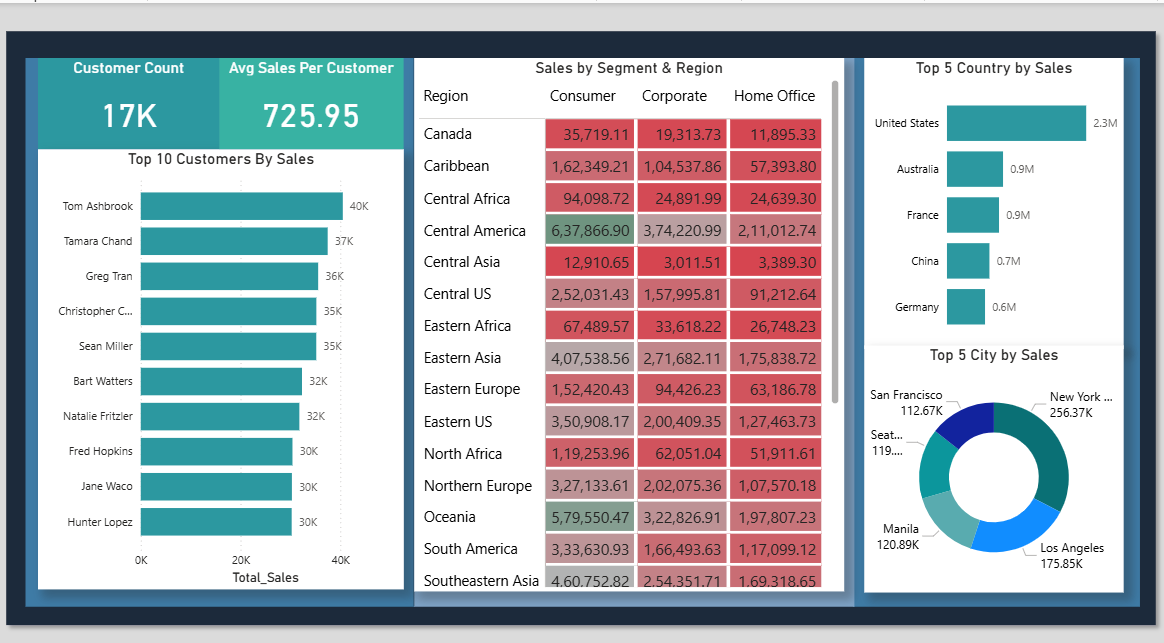

Layout of this report page (visuals, bound fields, positions):
{"tool":"powerbi","page":{"name":"Customer Insights","canvas":[1280,720],"ordinal":2},"visuals":[{"type":"shape","box":[937.9,60.1,315,602.7],"z":0,"group":"g1"},{"type":"shape","box":[456.1,59.9,483.2,602.7],"z":1000,"group":"g1"},{"type":"shape","box":[29.9,59.9,426.2,602.7],"z":2000,"group":"g1"},{"type":"card","title":"Customer Count","fields":{"Values":["Measures (2).Customer Count"]},"box":[44.2,59.9,199.5,99.7],"z":3000,"group":"g1"},{"type":"barChart","title":"Top 10 Customers By Sales","fields":{"Category":["DimCustomer.Customer Name"],"Y":["Measures (2).Total_Sales"]},"box":[44.2,159.6,401.9,483.1],"z":4000,"group":"g1"},{"type":"card","title":"Avg Sales Per Customer","fields":{"Values":["Measures (2).Avg Sales per Customer"]},"box":[242.3,59.9,202.4,99.7],"z":5000,"group":"g1"},{"type":"pivotTable","title":"Sales by  Segment & Region","fields":{"Values":["Measures (2).Total_Sales"],"Rows":["DimGeography.Region"],"Columns":["DimCustomer.Segment"]},"box":[456.1,59.9,471.8,585.7],"z":6000,"group":"g1"},{"type":"barChart","title":"Top 5 Country by Sales","fields":{"Category":["DimGeography.Country"],"Y":["Measures (2).Total_Sales"]},"box":[950.8,60.1,285.1,319.3],"z":7000,"group":"g1"},{"type":"shape","box":[0,21.4,1280,669.9],"z":7501},{"type":"donutChart","title":"Top 5 City by Sales","fields":{"Category":["DimGeography.City"],"Y":["Measures (2).Total_Sales"]},"box":[950.8,375.1,285.1,270.8],"z":8000,"group":"g1"},{"type":"group","id":"g1","title":"Group 1","box":[29.9,59.9,1223,602.9],"z":8001}]}

Visuals, with their boxes in screenshot pixels (x1, y1, x2, y2), scaled from the page's 1280x720 canvas onto the 1164x643 screenshot:
shape: region(853, 54, 1139, 592)
shape: region(415, 53, 854, 592)
shape: region(27, 53, 415, 592)
"Customer Count" card: region(40, 53, 222, 143)
"Top 10 Customers By Sales" barChart: region(40, 143, 406, 574)
"Avg Sales Per Customer" card: region(220, 53, 404, 143)
"Sales by  Segment & Region" pivotTable: region(415, 53, 844, 577)
"Top 5 Country by Sales" barChart: region(865, 54, 1124, 339)
shape: region(0, 19, 1163, 617)
"Top 5 City by Sales" donutChart: region(865, 335, 1124, 577)
"Group 1" group: region(27, 53, 1139, 592)
